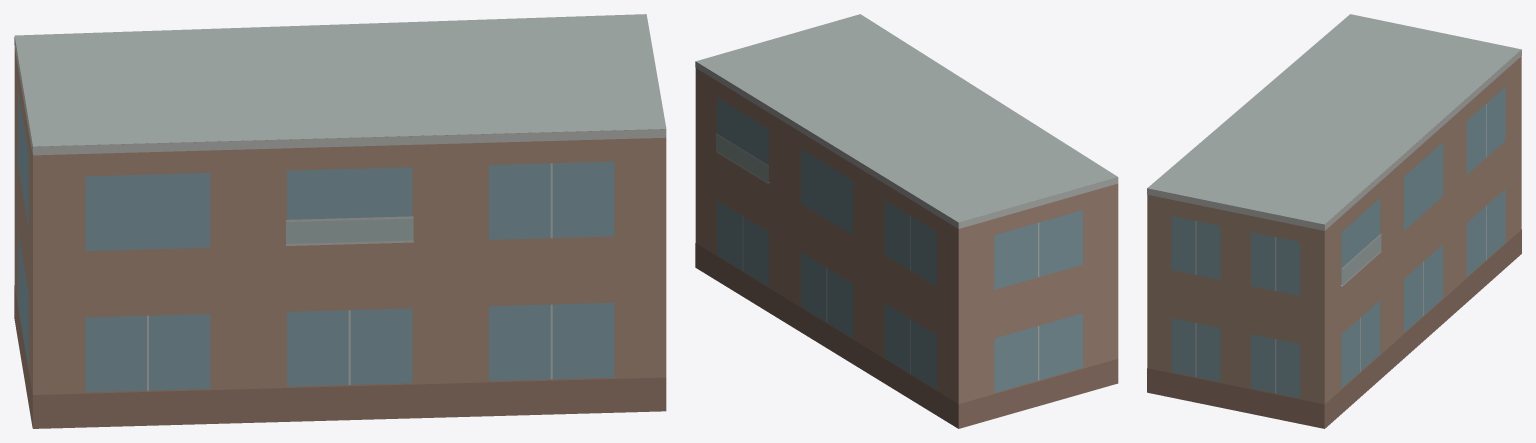
Rendered from survey-upis-32842925.glb.
3 renders of one model, left to right at view 1: azimuth 30°, elevation 25°; view 2: azimuth 150°, elevation 25°; view 3: azimuth 270°, elevation 25°, orthographic. The views are drawn at different scales.
Parts seen in each view (by area): view 1: survey-upis-32842925.tmp; view 2: survey-upis-32842925.tmp; view 3: survey-upis-32842925.tmp.
Part boxes in pixels (bbox=[...]): survey-upis-32842925.tmp: bbox=[14, 14, 666, 428]; survey-upis-32842925.tmp: bbox=[695, 14, 1118, 428]; survey-upis-32842925.tmp: bbox=[1147, 14, 1521, 428].
Bounding box in the file's own units: 17.25 × 7.8 × 12.97.
